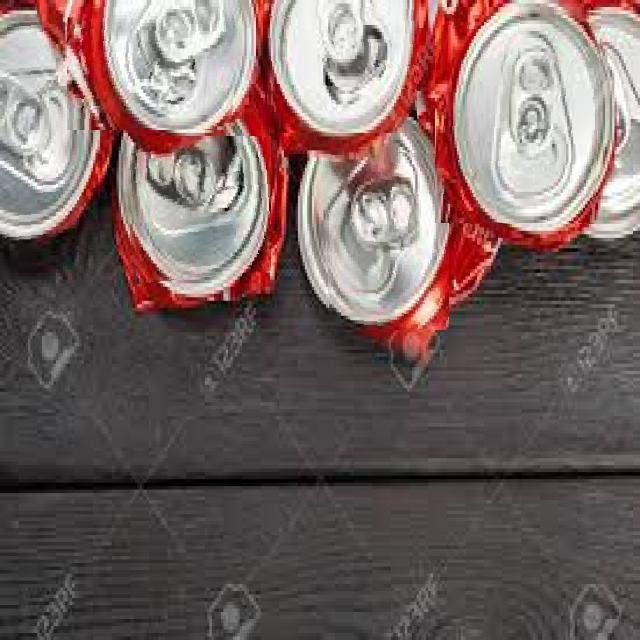Cans: (435, 7, 601, 223), (323, 147, 449, 330), (0, 22, 98, 257), (67, 0, 242, 130), (123, 136, 271, 284), (264, 4, 418, 133)
